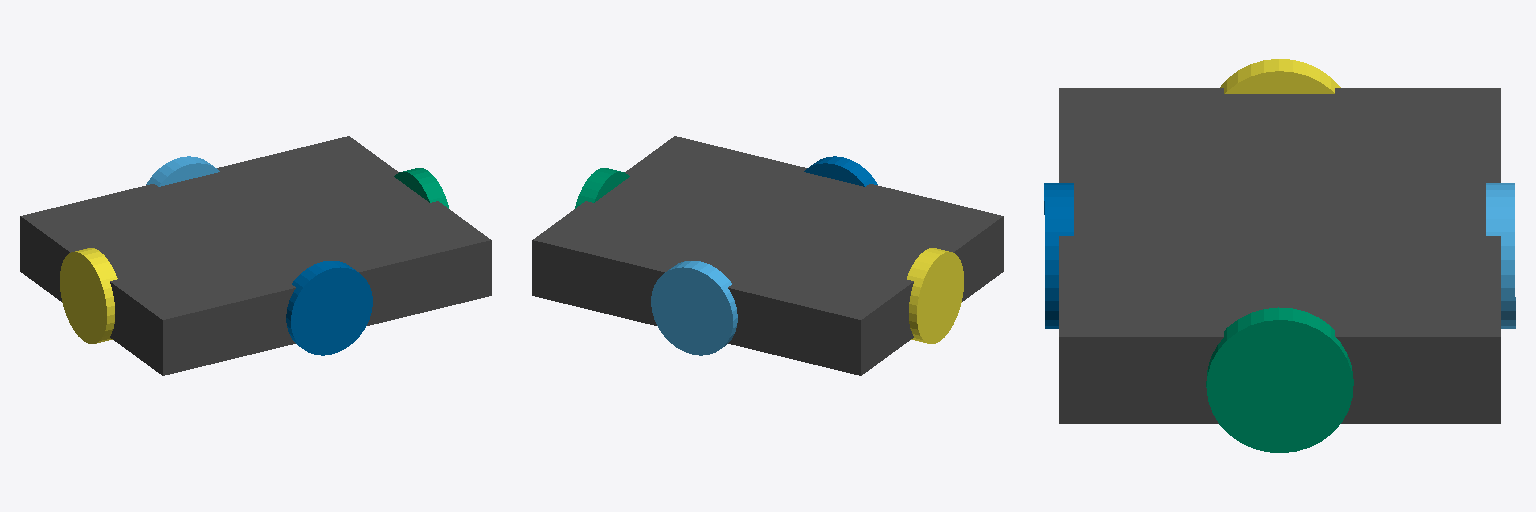
robot.urdf — myfirst:
<?xml version="1.0"?>
<robot name="myfirst" xmlns:xacro="http://www.ros.org/wiki/xacro">

  <material name="gray">
    <color rgba="0.35 0.35 0.35 0.5"/>
  </material>



  <link name="base_link">
  <visual>
    <geometry>
      <box size="0.8 0.6 0.13"/>
    </geometry>
    <origin rpy="0 0 0" xyz="0 0 0"/>
    <material name="gray"/>
  </visual>

  <collision>
    <geometry>
      <box size="0.8 0.6 2"/>
    </geometry>
    <origin rpy="0 0 0" xyz="0 0 0"/>
  </collision>

  <inertial>
    <mass value="3"/>
    <inertia ixx="0.0" ixy="0.0" ixz="0.0" iyy="0.0" iyz="0.0" izz="0.0"/>
  </inertial>
  </link>


  <link name="left_wheel">
    <visual>
      <geometry>
        <cylinder length="0.04" radius="0.1"/>
      </geometry>
      <origin rpy="1.57 1.57 0" xyz="0 0 0"/>
    </visual>

  <collision>
    <geometry>
      <cylinder length="0.04" radius="0.1"/>
    </geometry>
    <origin rpy="1.57 1.57 0" xyz="0 0 0"/>
  </collision>

  <inertial>
    <mass value="0.5"/>
    <inertia ixx="0.0" ixy="0.0" ixz="0.0" iyy="0.0" iyz="0.0" izz="0.0"/>
  </inertial>
  </link>


    <link name="front_wheel">
      <visual>
        <geometry>
          <cylinder length="0.04" radius="0.1"/>
        </geometry>
        <origin rpy="1.57 1.57 -1.57" xyz="0 0 0"/>
      </visual>

    <collision>
      <geometry>
        <cylinder length="0.04" radius="0.1"/>
      </geometry>
      <origin rpy="1.57 1.57 0" xyz="0 0 0"/>
    </collision>

    <inertial>
      <mass value="0.5"/>
      <inertia ixx="0.0" ixy="0.0" ixz="0.0" iyy="0.0" iyz="0.0" izz="0.0"/>
    </inertial>
    </link>


    <link name="back_wheel">
      <visual>
        <geometry>
          <cylinder length="0.04" radius="0.1"/>
        </geometry>
        <origin rpy="1.57 1.57 1.57" xyz="0 0 0"/>
      </visual>

    <collision>
      <geometry>
        <cylinder length="0.04" radius="0.1"/>
      </geometry>
      <origin rpy="1.57 1.57 0" xyz="0 0 0"/>
    </collision>

    <inertial>
      <mass value="0.5"/>
      <inertia ixx="0.0" ixy="0.0" ixz="0.0" iyy="0.0" iyz="0.0" izz="0.0"/>
    </inertial>
    </link>


  <joint name="left_wheel_to_base_link" type="continuous">
    <parent link="base_link"/>
    <child link="left_wheel"/>
    <origin xyz="0 0.3 0" rpy="0 1 0"/>
    <axis xyz="0 1 0"/>
  </joint>


  <link name="right_wheel">
    <visual>
      <geometry>
        <cylinder length="0.04" radius="0.1"/>
      </geometry>
      <origin rpy="1.57 1.57 0" xyz="0 0 0"/>
    </visual>

  <collision>
    <geometry>
      <cylinder length="0.04" radius="0.1"/>
    </geometry>
    <origin rpy="1.57 1.57 0" xyz="0 0 0"/>
  </collision>

  <inertial>
    <mass value="0.5"/>
    <inertia ixx="0.0" ixy="0.0" ixz="0.0" iyy="0.0" iyz="0.0" izz="0.0"/>
  </inertial>
  </link>


  <joint name="right_wheel_to_base_link" type="continuous">
    <parent link="base_link"/>
    <child link="right_wheel"/>
    <origin xyz="0 -0.3 0" rpy="0 1 0"/>
    <axis xyz="0 1 0"/>
  </joint>

  <joint name="front_wheel_to_base_link" type="continuous">
    <parent link="base_link"/>
    <child link="front_wheel"/>
    <origin xyz="0.4 0 0" rpy="1 0 0"/>
    <axis xyz="1 0 0"/>
  </joint>

  <joint name="back_wheel_to_base_link" type="continuous">
    <parent link="base_link"/>
    <child link="back_wheel"/>
    <origin xyz="-0.4 0 0" rpy="1 0 0"/>
    <axis xyz="1 0 0"/>
  </joint>


  <gazebo reference="base_link">
    <mu1>0.3</mu1>
    <mu2>0.3</mu2>
    <material>Gazebo/White</material>
  </gazebo>

  <gazebo reference="left_wheel_to_base_link">
    <mu1>0.3</mu1>
    <mu2>0.5</mu2>
    <kp>1.0</kp>
    <kd>1.0</kd>
    <minDepth>0.001</minDepth>
    <maxVel>10.0</maxVel>
    <material>Gazebo/Black</material>
  </gazebo>

  <gazebo reference="front_wheel_to_base_link">
    <mu1>0.0</mu1>
    <mu2>0.0</mu2>
    <kp>1.0</kp>
    <kd>1.0</kd>
    <minDepth>0.000</minDepth>
    <maxVel>10.0</maxVel>
    <material>Gazebo/Black</material>
  </gazebo>

  <gazebo reference="back_wheel_to_base_link">
    <mu1>0.0</mu1>
    <mu2>0.0</mu2>
    <kp>1.0</kp>
    <kd>1.0</kd>
    <minDepth>0.000</minDepth>
    <maxVel>1.0</maxVel>
    <material>Gazebo/Black</material>
  </gazebo>

  <gazebo reference="right_wheel_to_base_link">
    <mu1>0.3</mu1>
    <mu2>0.5</mu2>
    <kp>1.0</kp>
    <kd>1.0</kd>
    <minDepth>0.001</minDepth>
    <maxVel>10.0</maxVel>
    <material>Gazebo/Black</material>
  </gazebo>

  <gazebo reference="front_caster">
    <mu1>0.0</mu1>
    <mu2>0.0</mu2>
    <kp>1.0</kp>
    <kd>1.0</kd>
    <minDepth>0.001</minDepth>
    <maxVel>10.0</maxVel>
    <material>Gazebo/Blue</material>
  </gazebo>

  <gazebo reference="rear_caster">
    <mu1>0.0</mu1>
    <mu2>0.0</mu2>
    <kp>1.0</kp>
    <kd>1.0</kd>
    <minDepth>0.001</minDepth>
    <maxVel>10.0</maxVel>
    <material>Gazebo/Blue</material>
  </gazebo>

  <gazebo>
    <plugin name="differential_drive_controller" filename="libgazebo_ros_diff_drive.so">
      <legacyMode>false</legacyMode>
      <publishTf>1</publishTf>
      <publishWheelTF>true</publishWheelTF>
      <publishWheelJointState>true</publishWheelJointState>
      <alwaysOn>true</alwaysOn>
      <updateRate>50</updateRate>
      <leftJoint>left_wheel_to_base_link</leftJoint>
      <rightJoint>right_wheel_to_base_link</rightJoint>
      <wheelSeparation>0.232</wheelSeparation>
      <wheelDiameter>0.35</wheelDiameter>
      <wheelTorque>100</wheelTorque>
      <wheelAcceleration>1</wheelAcceleration>
      <commandTopic>/cmd_vel</commandTopic>
      <odometryTopic>odom</odometryTopic>
      <odometryFrame>odom</odometryFrame>
      <robotBaseFrame>base_link</robotBaseFrame>
    </plugin>

  </gazebo>

</robot>

--- Facts derived from the render (not from the file) ---
The picture shows the robot from 3 angles, left to right: view 1: azimuth 30°, elevation 25°; view 2: azimuth 150°, elevation 25°; view 3: azimuth 270°, elevation 25°; orthographic projection.
Robot: myfirst — 5 links, 4 joints (4 continuous); root link base_link; default pose: every joint at zero.
Links seen in each view (by area): view 1: base_link, right_wheel, back_wheel, left_wheel, front_wheel; view 2: base_link, left_wheel, back_wheel, right_wheel, front_wheel; view 3: base_link, front_wheel, back_wheel, left_wheel, right_wheel.
Link boxes in pixels (bbox=[...]): base_link: bbox=[20, 136, 491, 375]; right_wheel: bbox=[286, 261, 372, 355]; back_wheel: bbox=[60, 248, 117, 343]; left_wheel: bbox=[146, 156, 219, 186]; front_wheel: bbox=[394, 168, 448, 208]; base_link: bbox=[532, 136, 1003, 375]; left_wheel: bbox=[651, 261, 737, 355]; back_wheel: bbox=[907, 248, 963, 343]; right_wheel: bbox=[804, 156, 877, 186]; front_wheel: bbox=[575, 168, 629, 208]; base_link: bbox=[1059, 88, 1500, 423]; front_wheel: bbox=[1206, 307, 1353, 452]; back_wheel: bbox=[1220, 59, 1340, 93]; left_wheel: bbox=[1486, 183, 1515, 328]; right_wheel: bbox=[1044, 183, 1073, 328].
Bounding box of the posed robot: 0.8402 × 0.6402 × 0.2 m (x, y, z).
Geometry: primitives only (box / cylinder / sphere), no mesh files.
